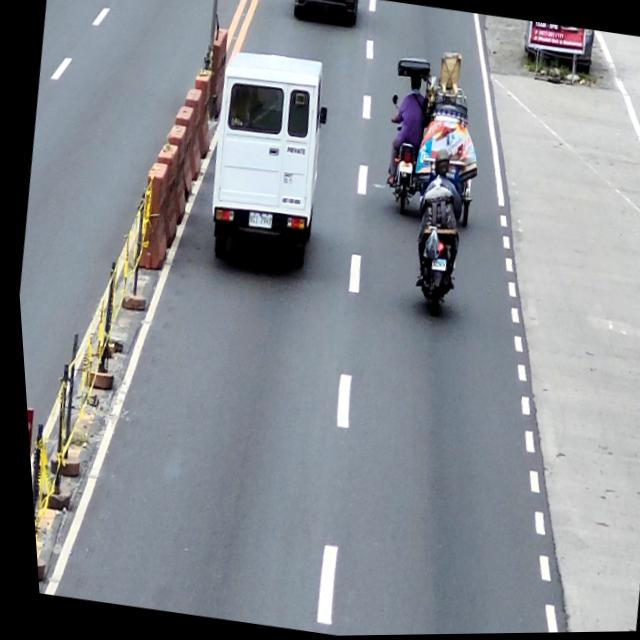Car: (192, 47, 342, 272)
License-Plate: (244, 212, 270, 230), (427, 258, 444, 273), (395, 161, 411, 176)
Motorcycle: (400, 193, 466, 320)
Tricycle: (371, 55, 492, 233)
